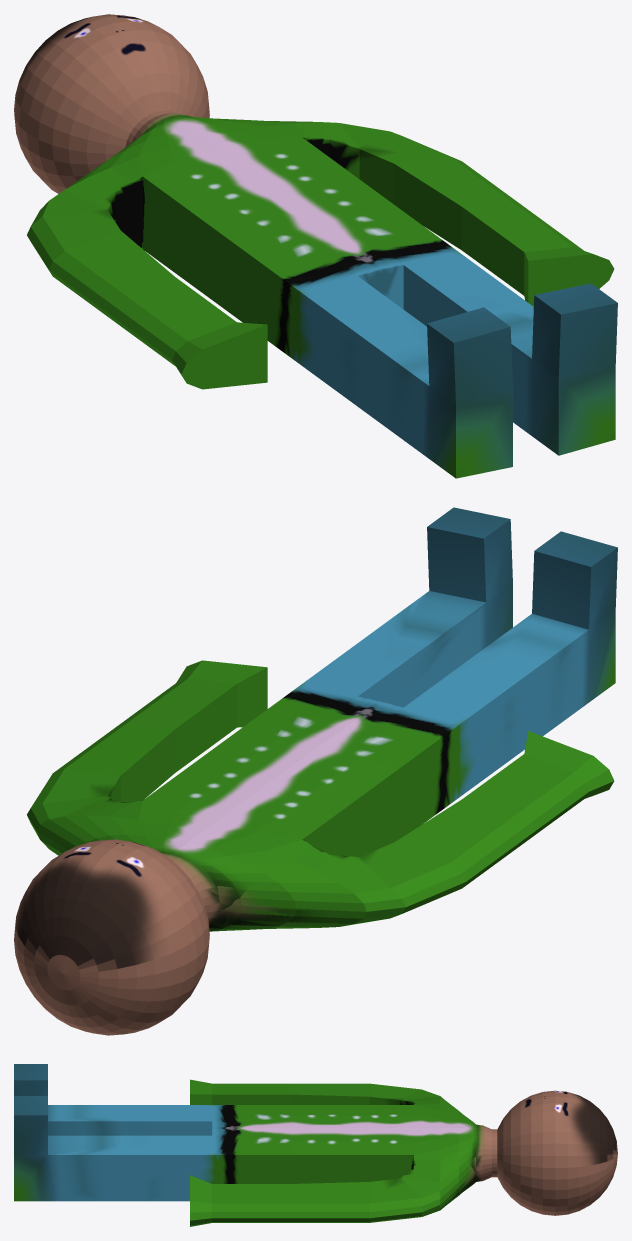
File: dude.gltf
The picture shows the model from 3 angles, top to bottom: view 1: azimuth 30°, elevation 25°; view 2: azimuth 150°, elevation 25°; view 3: azimuth 270°, elevation 25°; orthographic projection. The views are drawn at different scales.
Visible parts, largest first — view 1: Sphere; view 2: Sphere; view 3: Sphere.
Boxes of the visible parts, box(x1,y1,x2,y2) form: Sphere: box(14, 14, 617, 478); Sphere: box(14, 507, 617, 1035); Sphere: box(14, 1064, 617, 1226).
Bounding box in the file's own units: 5.1 × 2.15 × 9.64.
